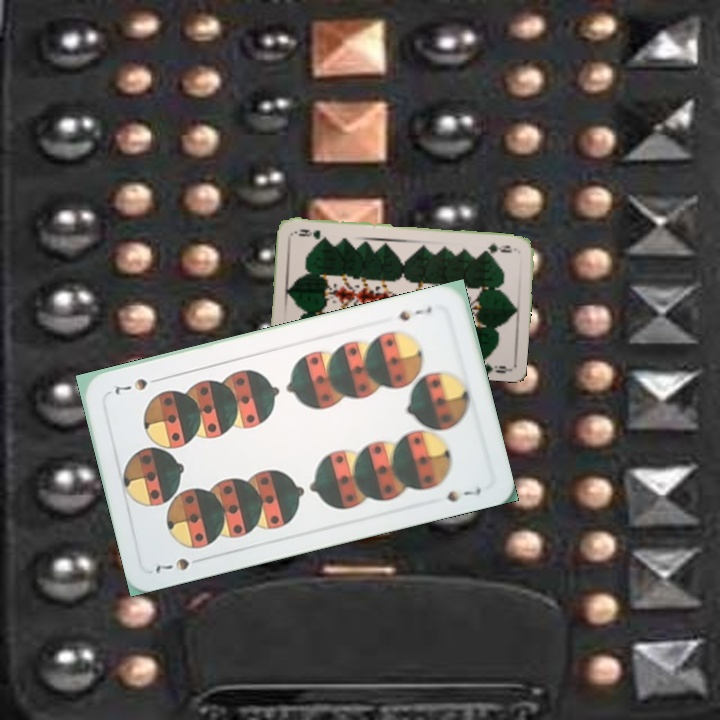G9: (480, 239, 519, 255)
S7: (151, 553, 208, 576), (395, 302, 435, 324)
